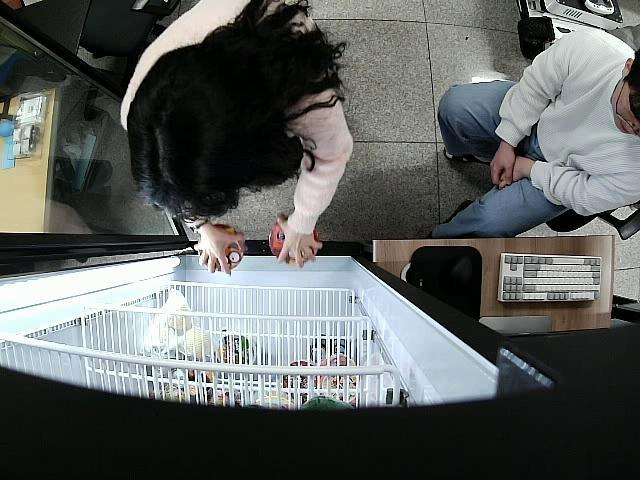05_nuguri_L: (268, 218, 320, 265), (201, 226, 244, 271)
